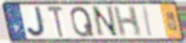H: (112, 5, 143, 38)
I: (142, 5, 155, 38)
J: (26, 6, 49, 39)
N: (91, 5, 121, 39)
Q: (69, 5, 96, 39)
T: (46, 5, 66, 39)
